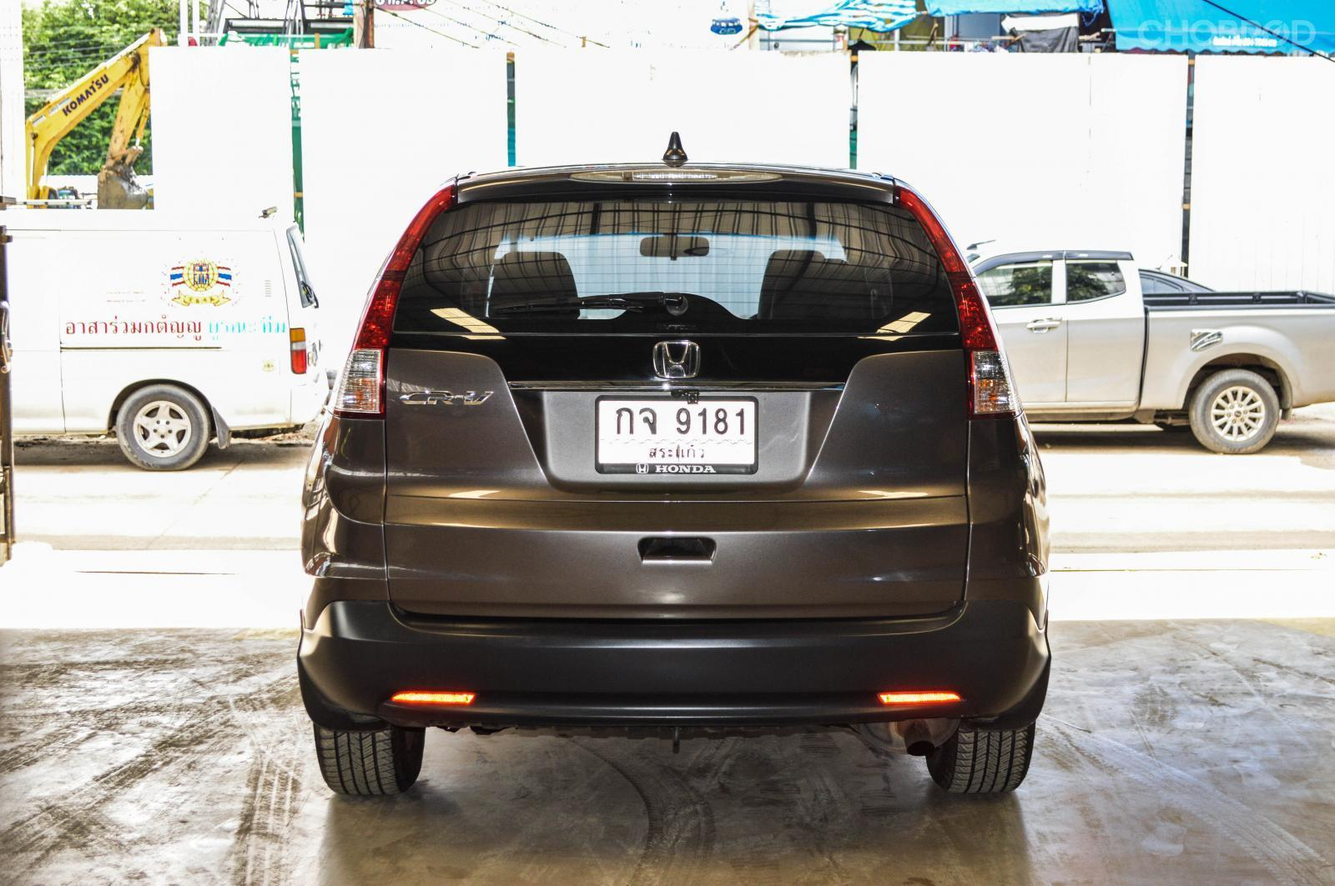license-plate: (594, 391, 759, 477)
